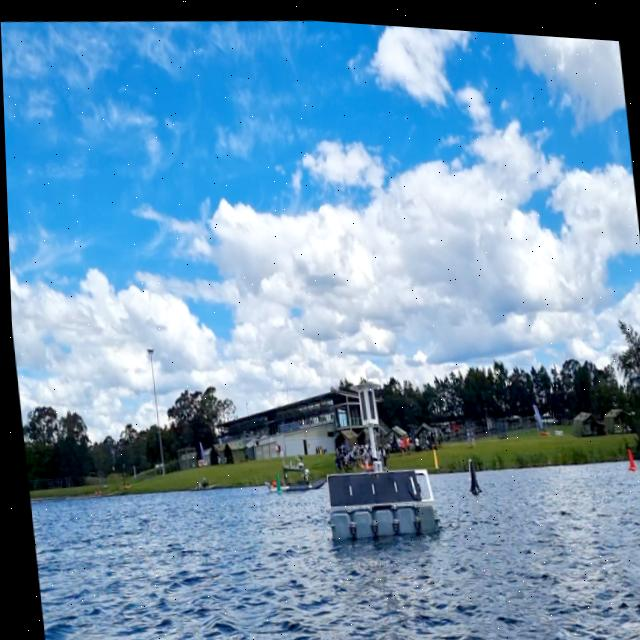led: (355, 383, 374, 418), (363, 383, 374, 416), (356, 384, 366, 416)
